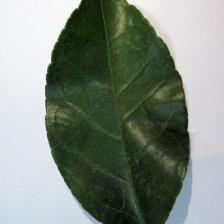healthy: (45, 0, 191, 224)
